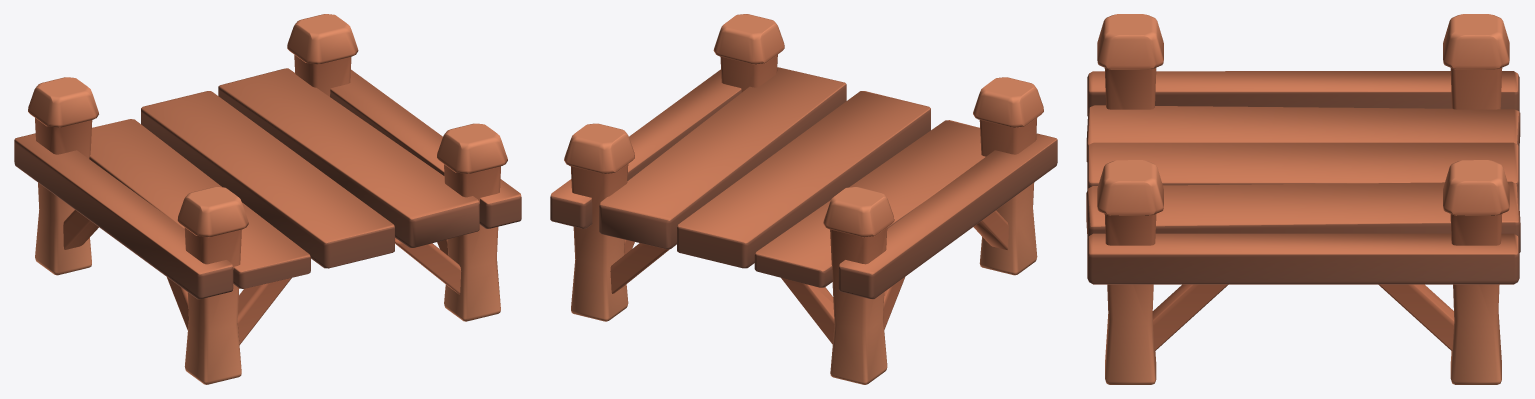
The model's file is structure-platform-dock.glb.
The picture shows the model from 3 angles, left to right: view 1: azimuth 30°, elevation 25°; view 2: azimuth 150°, elevation 25°; view 3: azimuth 270°, elevation 25°; orthographic projection. The views are drawn at different scales.
Parts seen in each view (by area): view 1: structure-platform-dock; view 2: structure-platform-dock; view 3: structure-platform-dock.
Boxes of the visible parts, <box> form: structure-platform-dock: <box>14,14,521,384</box>; structure-platform-dock: <box>550,14,1057,384</box>; structure-platform-dock: <box>1086,14,1520,384</box>.
Bounding box in the file's own units: 2.5 × 1.31 × 2.51.
Materials: 1 (1 with a texture image).
